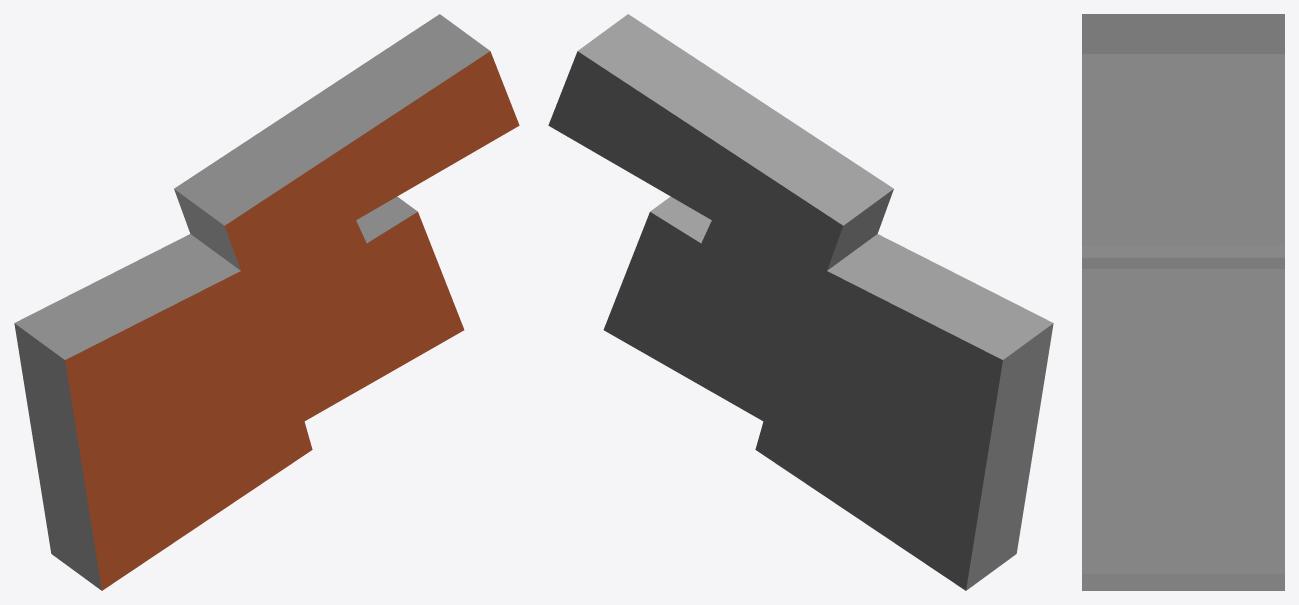
File: construction_1188_assumed_A_Casa_h6m.obj
3 renders of one model, left to right at view 1: azimuth 30°, elevation 25°; view 2: azimuth 150°, elevation 25°; view 3: azimuth 270°, elevation 25°, orthographic. The views are drawn at different scales.
Visible parts, largest first — view 1: construction_1188_assumed_A_Casa; view 2: construction_1188_assumed_A_Casa; view 3: construction_1188_assumed_A_Casa.
Part boxes in pixels (x1,y1,x2,y2): construction_1188_assumed_A_Casa: (14, 14, 519, 590); construction_1188_assumed_A_Casa: (548, 14, 1053, 590); construction_1188_assumed_A_Casa: (1082, 14, 1284, 590).
Bounding box in the file's own units: 31.08 × 29.08 × 6.
